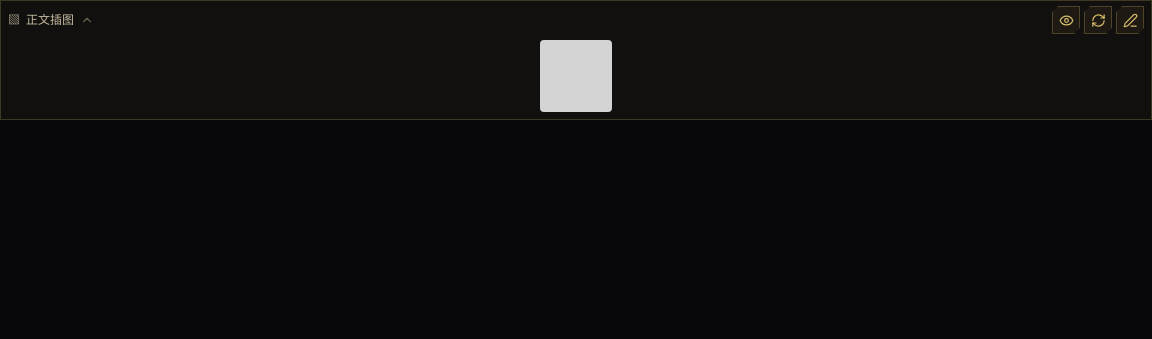
Test: 卡片不再显示提示词与插入位置 › 「修改提示词」仍可用，进入编辑后才出现输入框
Note: 操作已收成图标按钮，名称走 aria-label（悬停提示里显示同一句）。
Click the button named "修改提示词" at (1130,20), box [1116,6,1144,34]
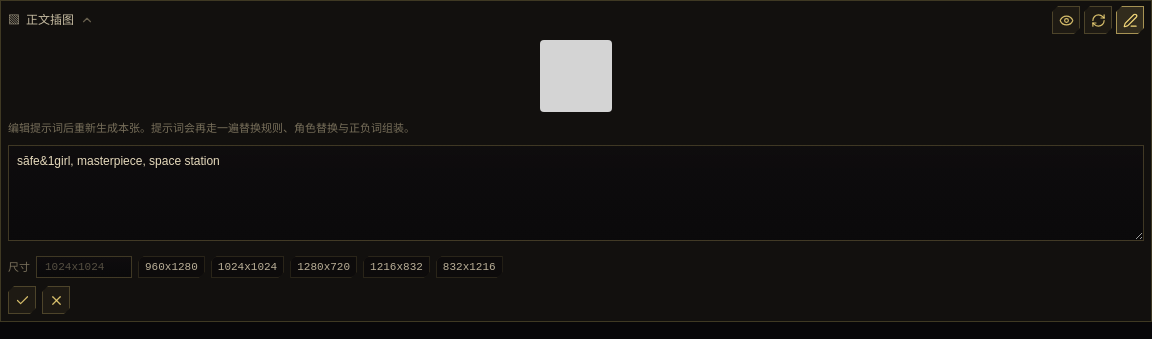
expect the text box is shown: met, box [8,144,1144,240]
